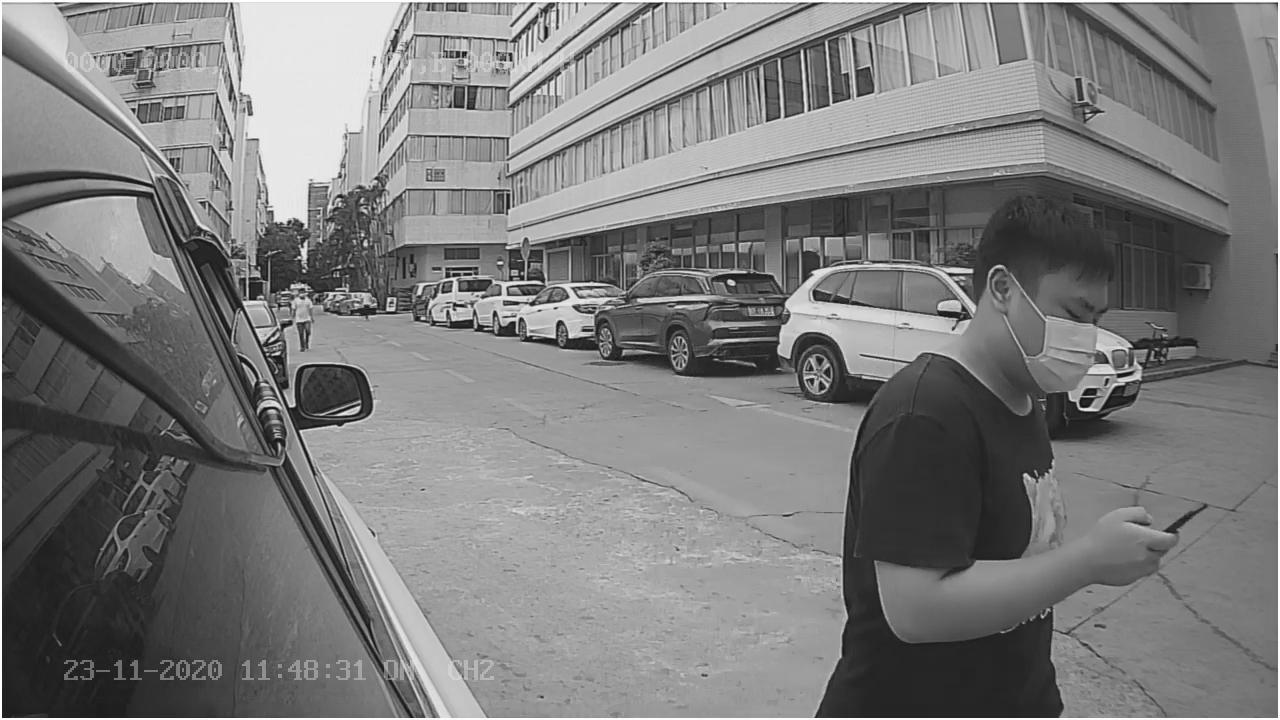person: (829, 177, 1175, 653)
